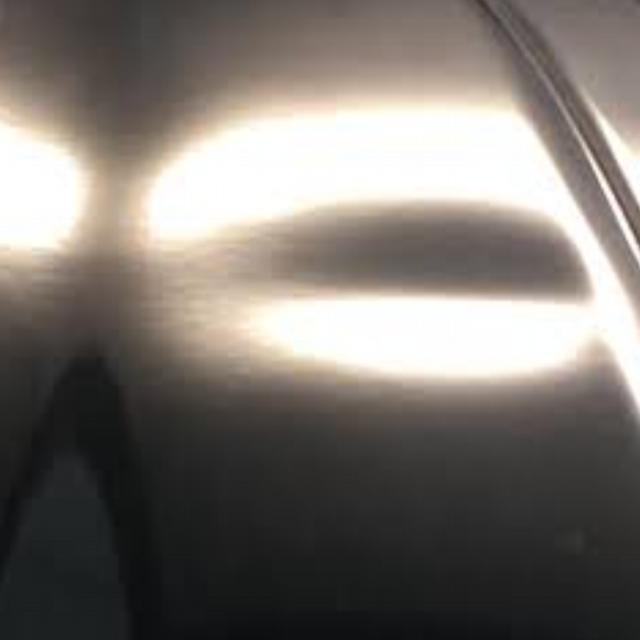dents: (200, 206, 606, 370)
